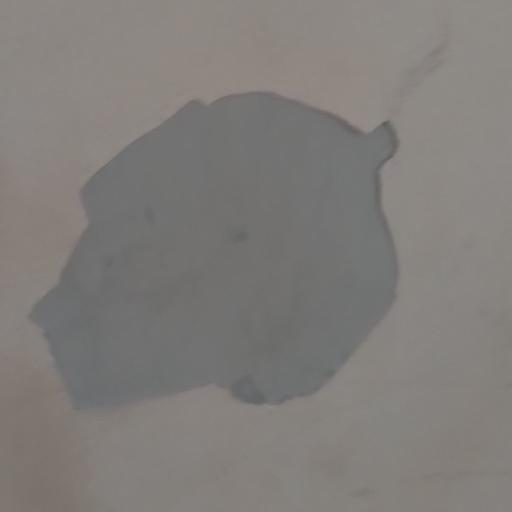peeling: (10, 80, 412, 416)
